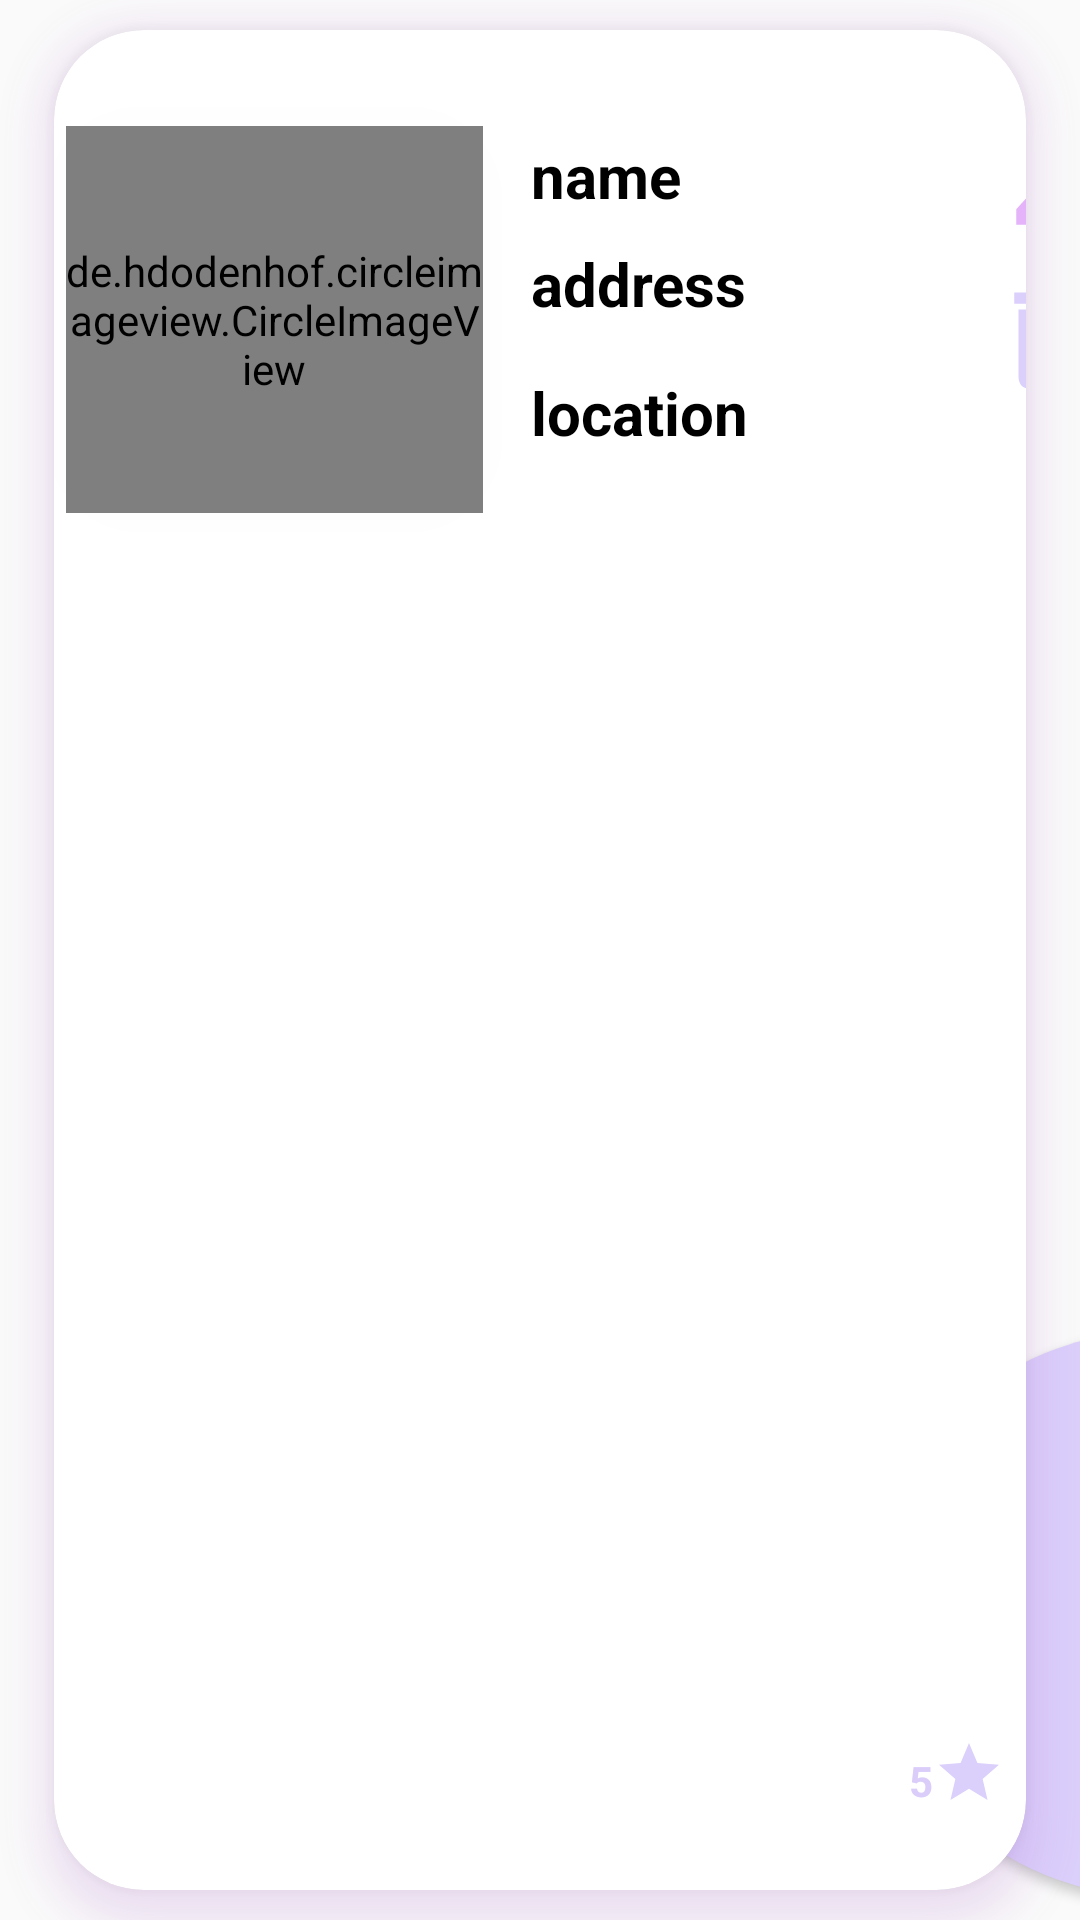

Where icons sit on this 1080 × 1920 app screen, as box(x1, y1, x2, y2):
star: box(940, 1744, 998, 1799)
